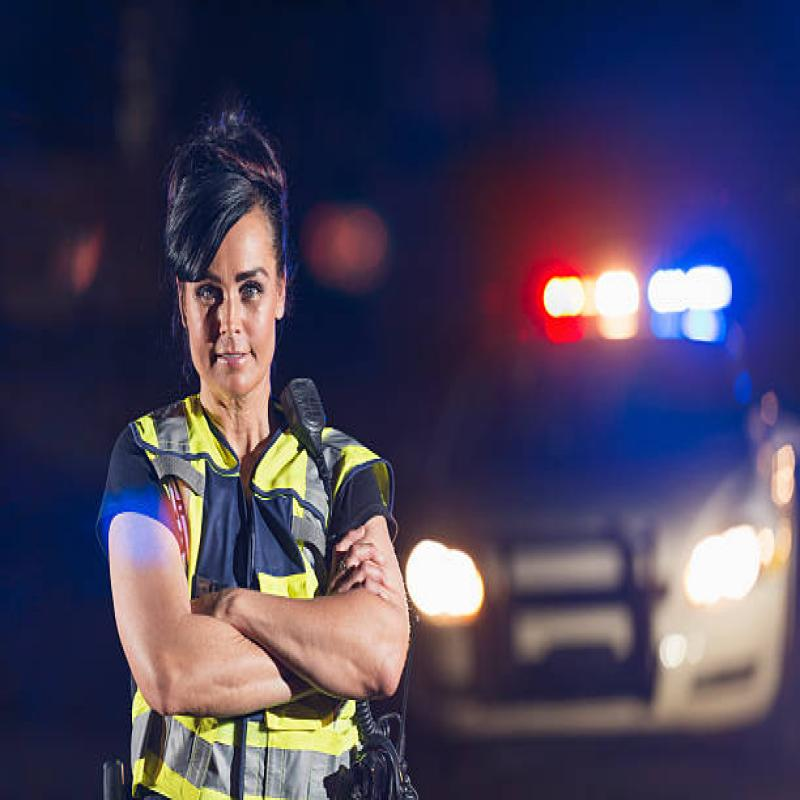AmbulanceSiren: (527, 246, 762, 358)
